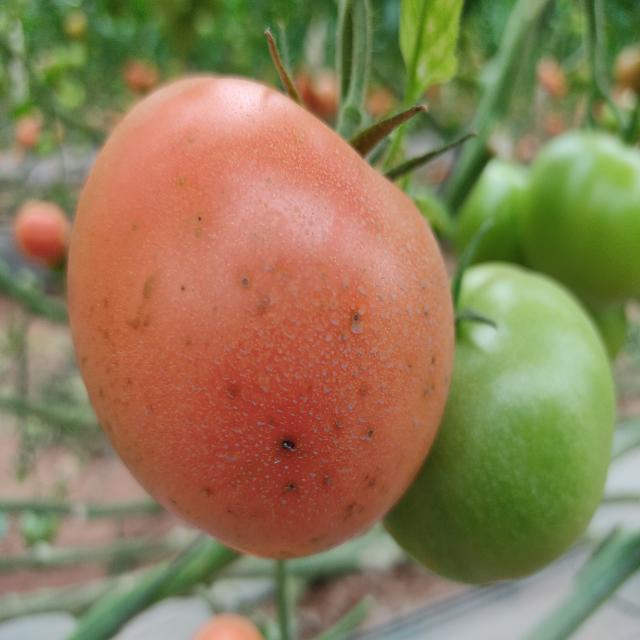Ripe Tomato: (64, 79, 453, 560)
Unripe Tomato: (383, 260, 612, 579)
